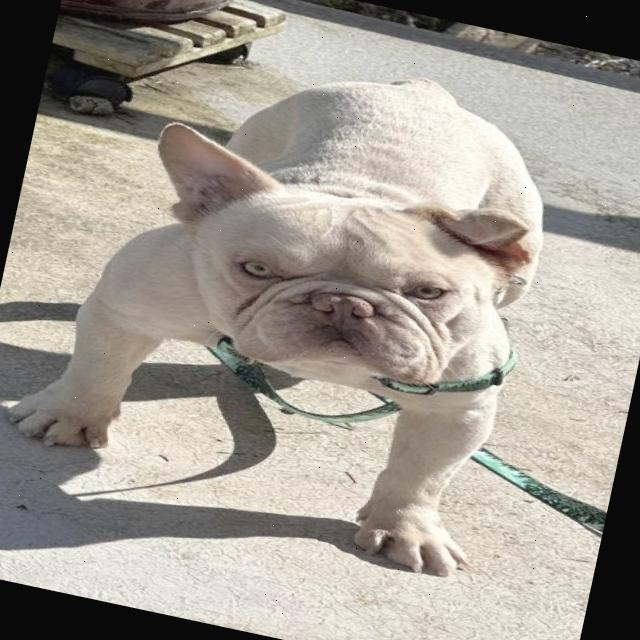french_bulldog_dog: (105, 111, 556, 433)
